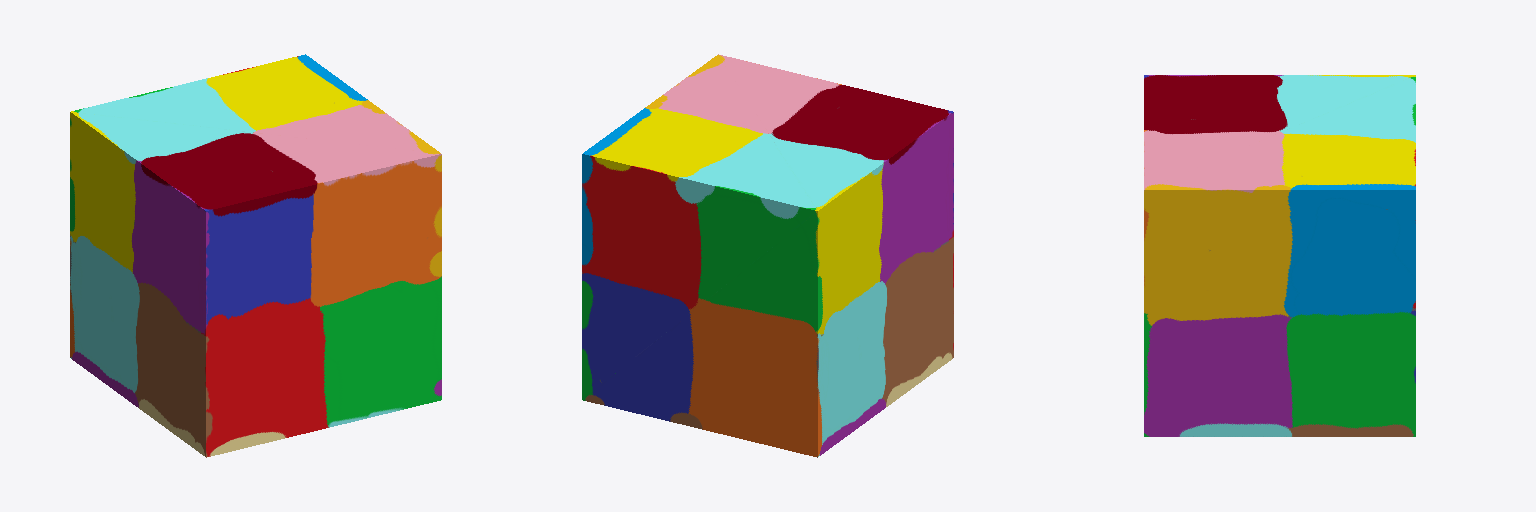
3 renders of one model, left to right at view 1: azimuth 30°, elevation 25°; view 2: azimuth 150°, elevation 25°; view 3: azimuth 270°, elevation 25°, orthographic.
Visible parts, largest first — view 1: Object.1; view 2: Object.1; view 3: Object.1.
Part boxes in pixels (bbox=[...]): Object.1: bbox=[70, 54, 441, 457]; Object.1: bbox=[582, 54, 953, 457]; Object.1: bbox=[1144, 75, 1415, 436].
Bounding box in the file's own units: 1 × 1 × 1.
1 materials, 1 textured.